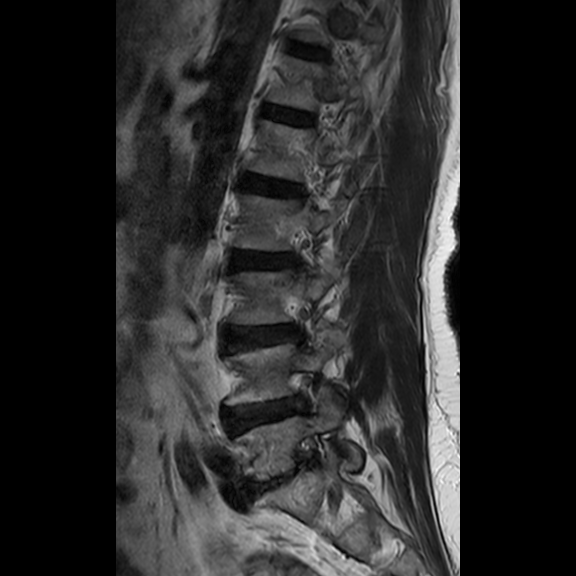LFS1: (277, 292, 323, 354)
LFS2: (277, 362, 325, 425)
